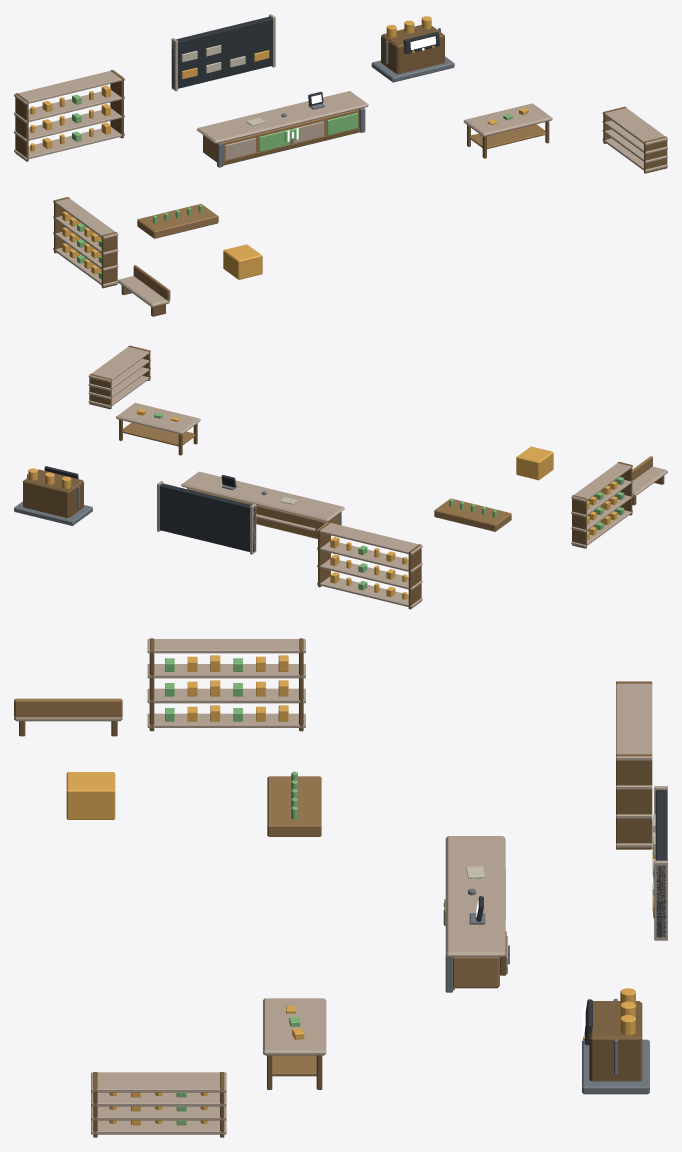
The model's file is southplot_rare_foods.glb.
3 renders of one model, top to bottom at view 1: azimuth 30°, elevation 25°; view 2: azimuth 150°, elevation 25°; view 3: azimuth 270°, elevation 25°, orthographic. The views are drawn at different scales.
Size of the model in its own units: 21.85 by 2.76 by 14.45.
